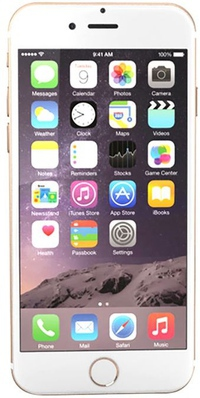Handphone: (1, 1, 198, 398)
